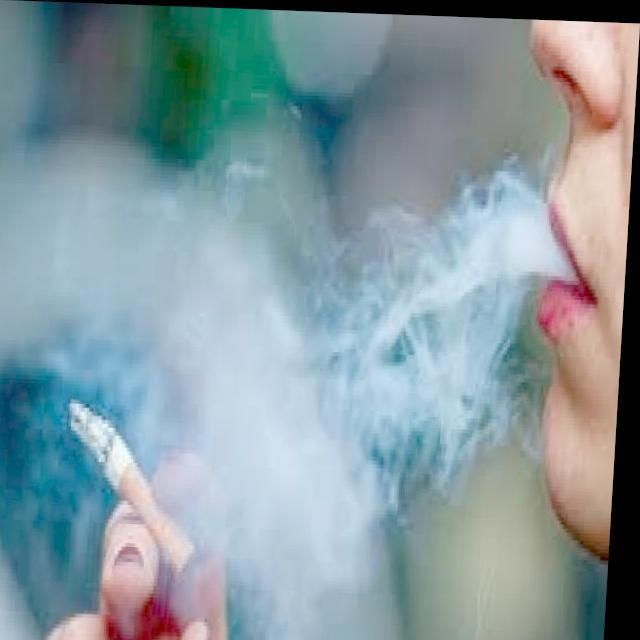Smoke: (0, 135, 580, 640)
